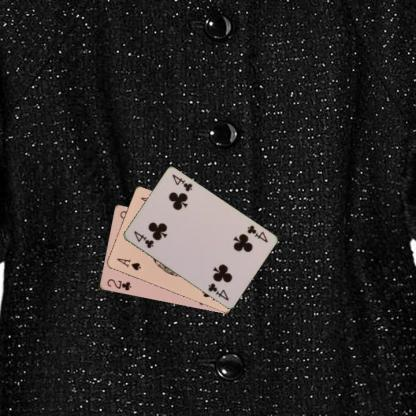2c: (104, 276, 132, 292)
4c: (130, 228, 155, 250), (244, 222, 269, 244)
As: (114, 256, 142, 272)
